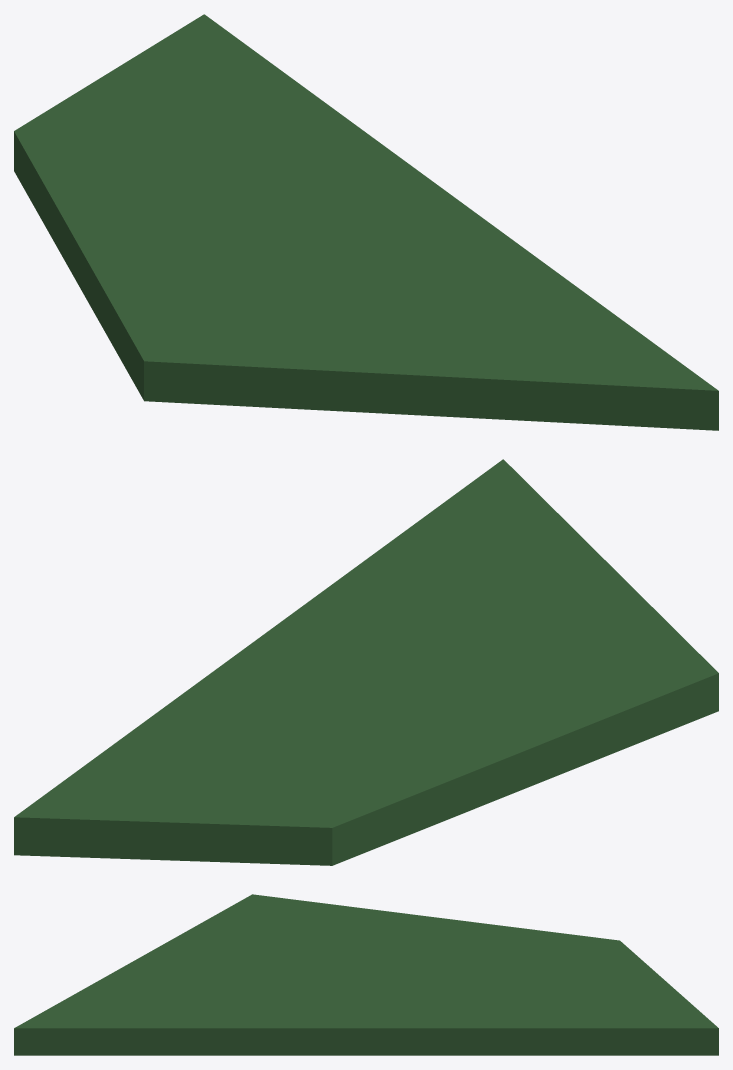
Rendered from x_proval_00_137_1_rmstrd.fbx.
3 renders of one model, top to bottom at view 1: azimuth 30°, elevation 25°; view 2: azimuth 150°, elevation 25°; view 3: azimuth 270°, elevation 25°, orthographic. The views are drawn at different scales.
Parts seen in each view (by area): view 1: x_proval_00_137_1_rmstrd1; view 2: x_proval_00_137_1_rmstrd1; view 3: x_proval_00_137_1_rmstrd1.
Part boxes in pixels (x1,y1,x2,y2): x_proval_00_137_1_rmstrd1: (14,14,718,430); x_proval_00_137_1_rmstrd1: (14,459,718,865); x_proval_00_137_1_rmstrd1: (14,894,718,1055).
Bounding box in the file's own units: 2.1 × 0.2 × 4.67.
